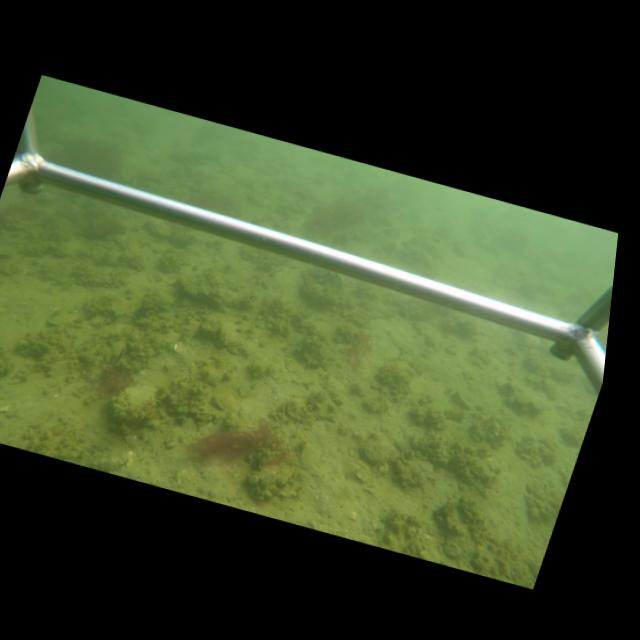Oyster-Indeterminate: (174, 269, 265, 312)
Oyster-Open: (278, 395, 313, 427), (108, 337, 128, 367)
